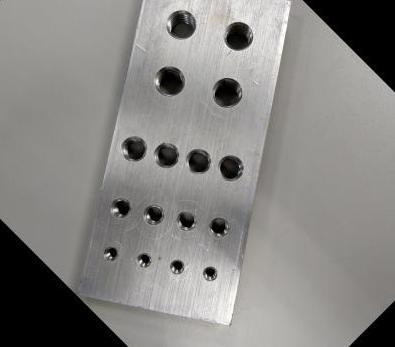hole: (146, 57, 192, 104), (204, 69, 249, 115), (158, 2, 203, 46), (216, 14, 260, 58), (211, 148, 250, 187), (114, 129, 153, 167), (147, 136, 185, 174), (179, 142, 217, 180), (138, 198, 169, 230), (105, 192, 136, 223), (203, 212, 234, 243), (171, 205, 201, 236), (132, 248, 155, 271), (198, 262, 221, 285), (99, 242, 122, 264), (166, 255, 188, 278)
